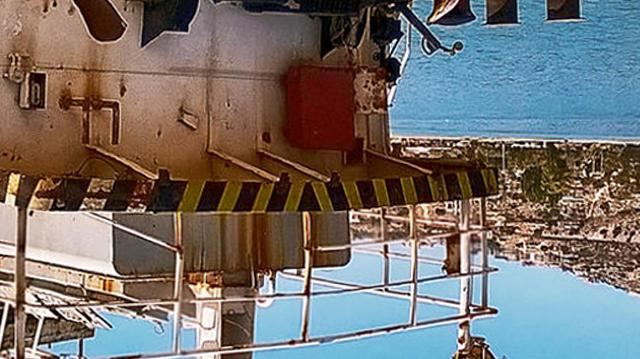rust: (203, 215, 350, 268), (53, 61, 134, 148), (444, 231, 463, 274)
